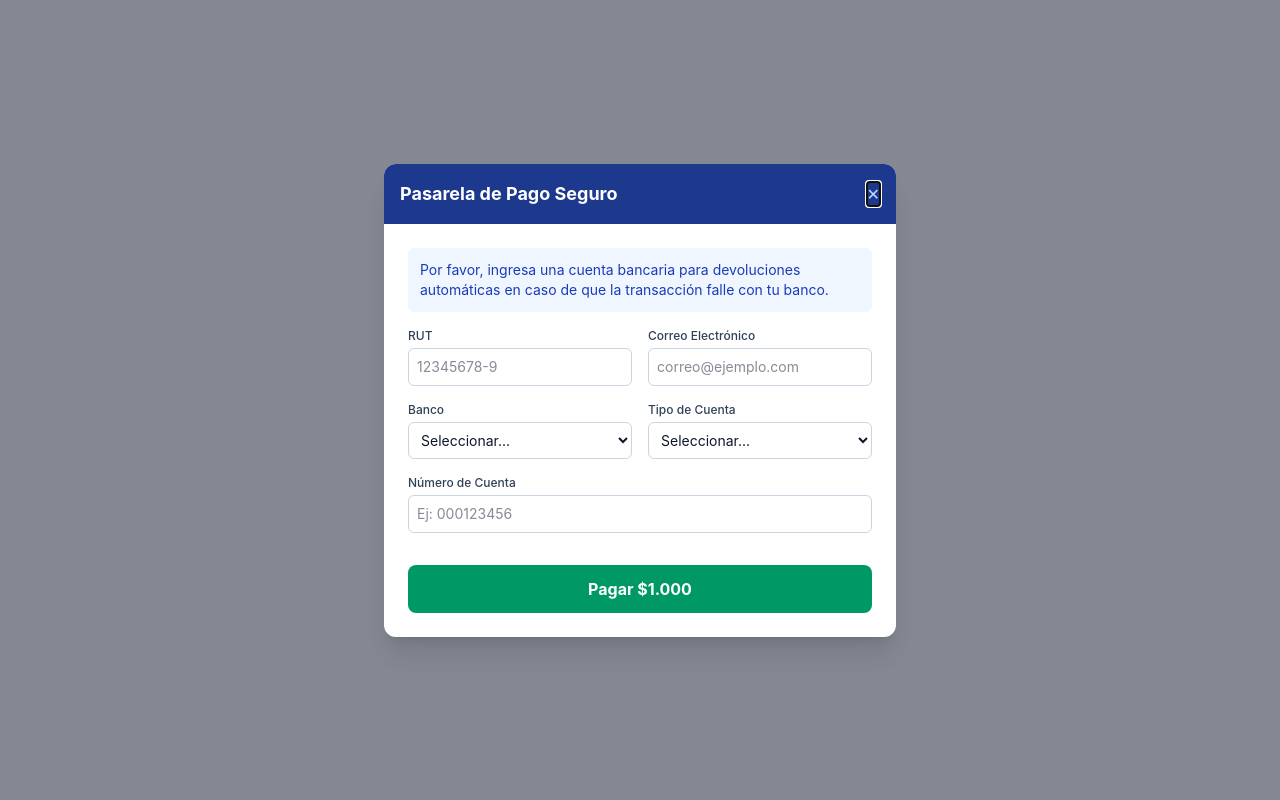
Test case: Flujo de Integración UI › 2. Bloquea el submit si el RUT tiene formato inválido
This screenshot has width=1280, height=800.
// Simulamos que el usuario escribe un RUT inválido (sin guion)
Type "111122223" into the field with placeholder "12345678-9" at [520, 366], box [408,348,632,386]
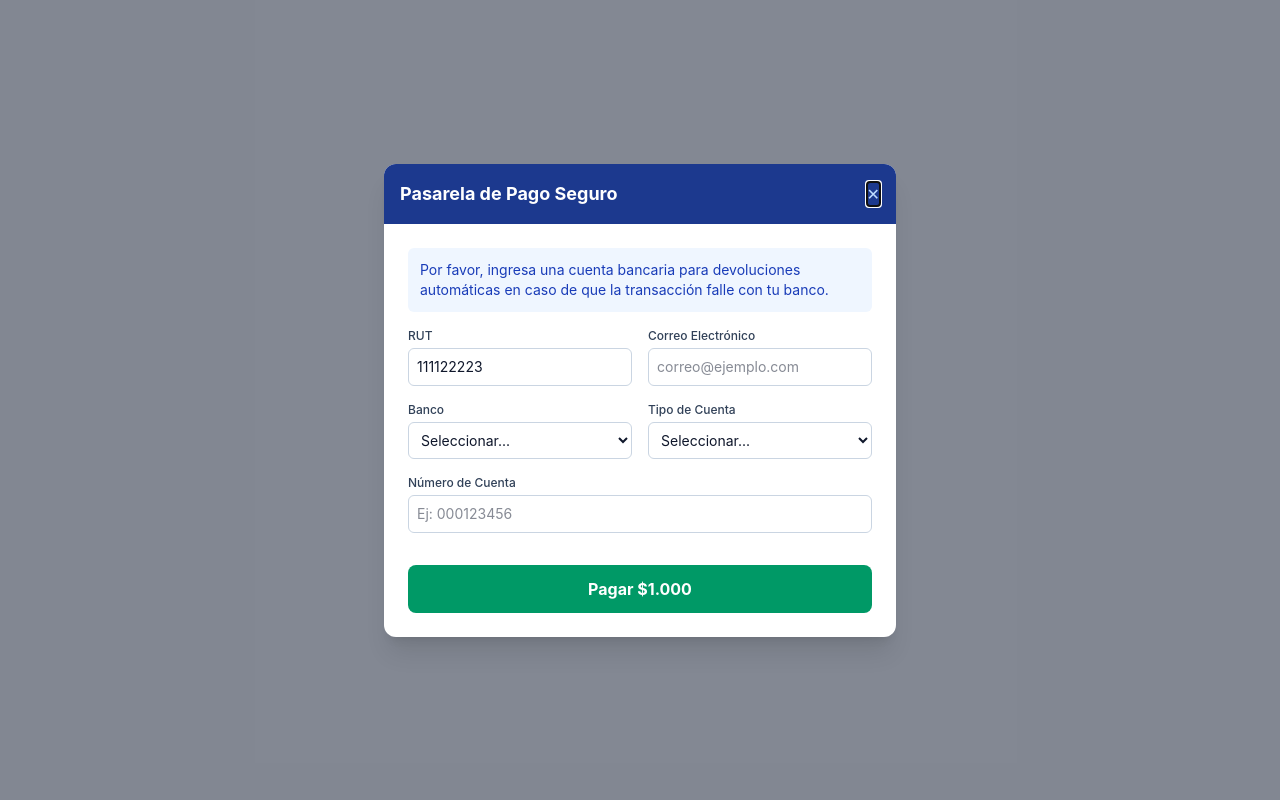
// Hacemos clic en pagar
Click the button "Pagar $1.000" at [640, 588], box [408,564,872,612]
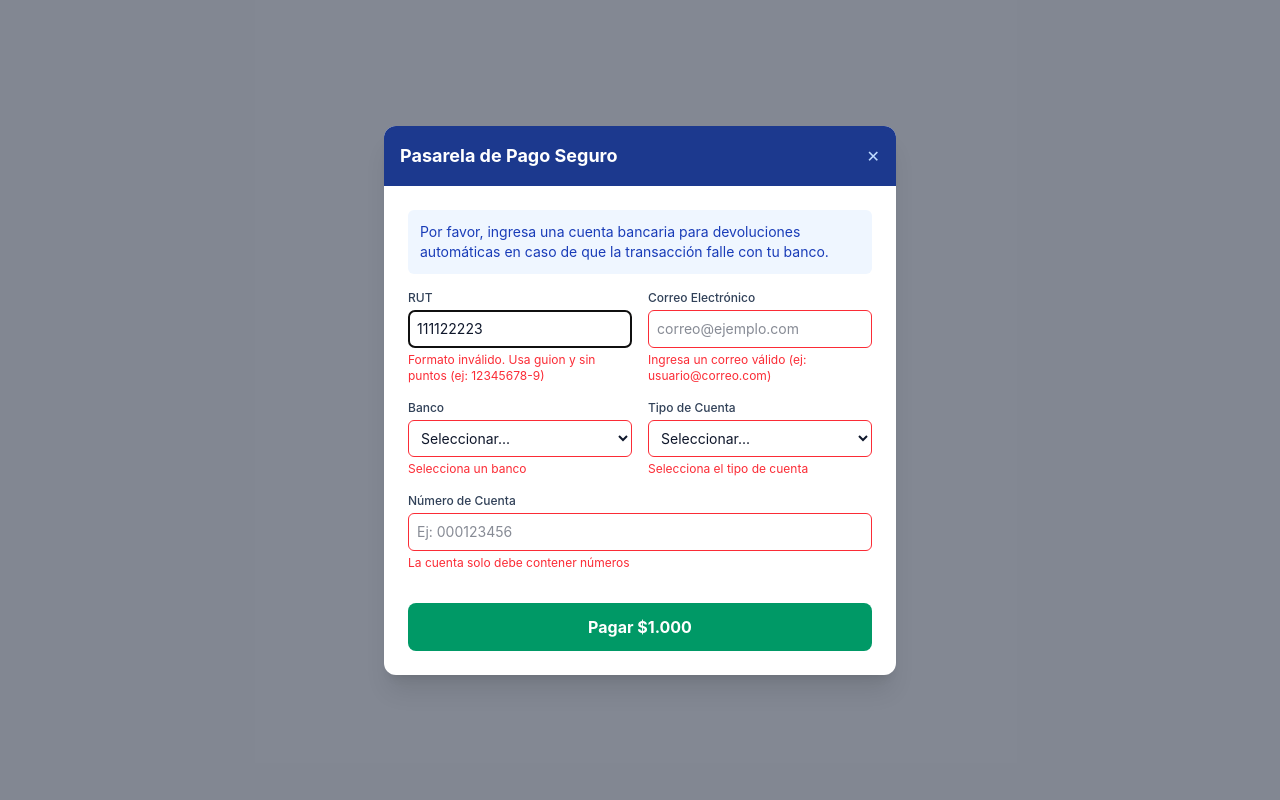
Expected: the text "Formato inválido. Usa guion y sin puntos (ej: 12345678-9)" is shown, [408,352,595,382]
